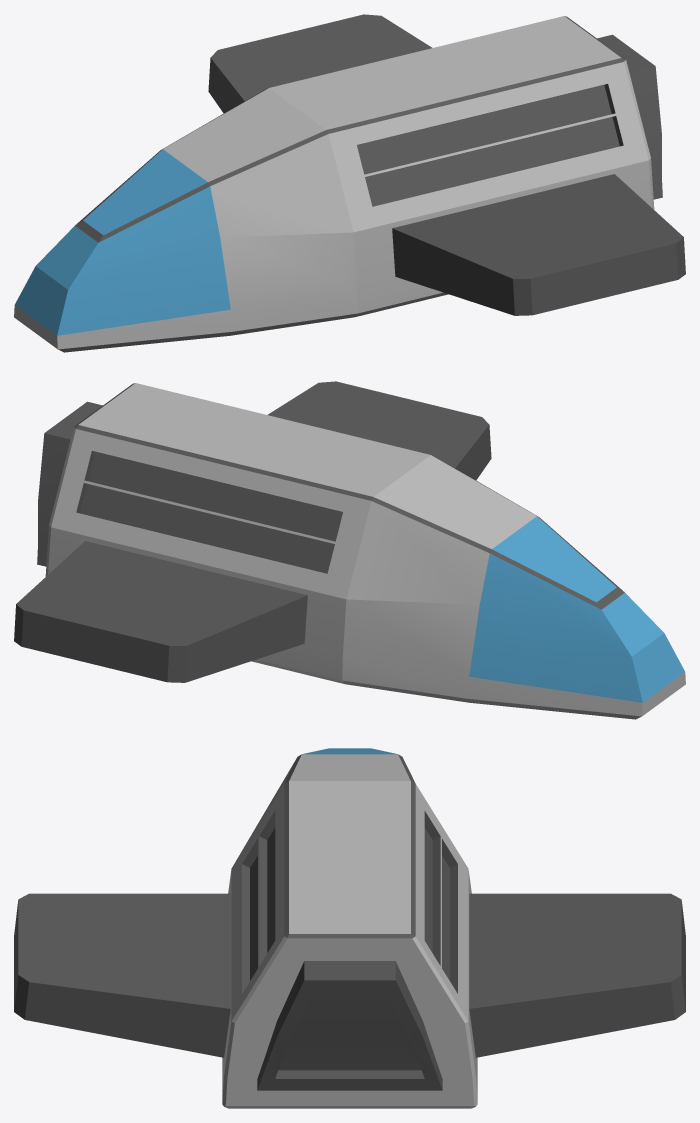
The picture shows the model from 3 angles, top to bottom: view 1: azimuth 30°, elevation 25°; view 2: azimuth 150°, elevation 25°; view 3: azimuth 270°, elevation 25°; orthographic projection. The views are drawn at different scales.
Visible parts, largest first — view 1: Cube; view 2: Cube; view 3: Cube.
Boxes of the visible parts, x1=… form: Cube: x1=14, y1=14, x2=685, y2=352; Cube: x1=14, y1=381, x2=685, y2=719; Cube: x1=14, y1=748, x2=685, y2=1108.
Size of the model in its own units: 4 by 1.06 by 3.67.
